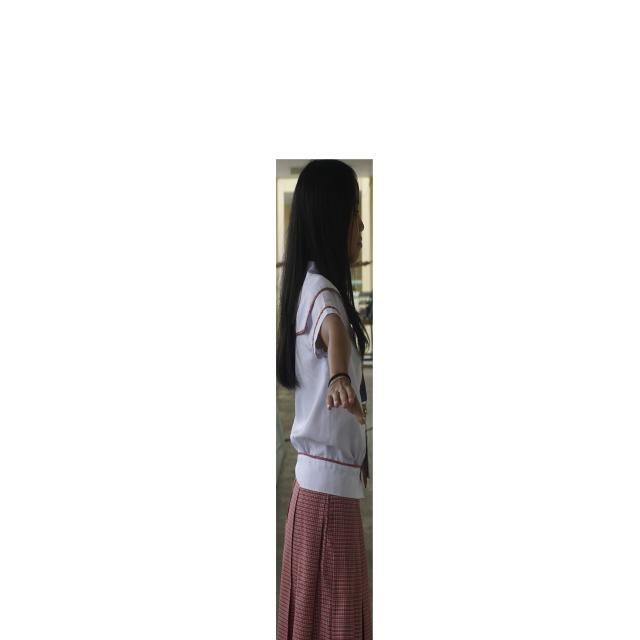pologirl: (291, 263, 366, 498)
skirt: (277, 479, 372, 640)
